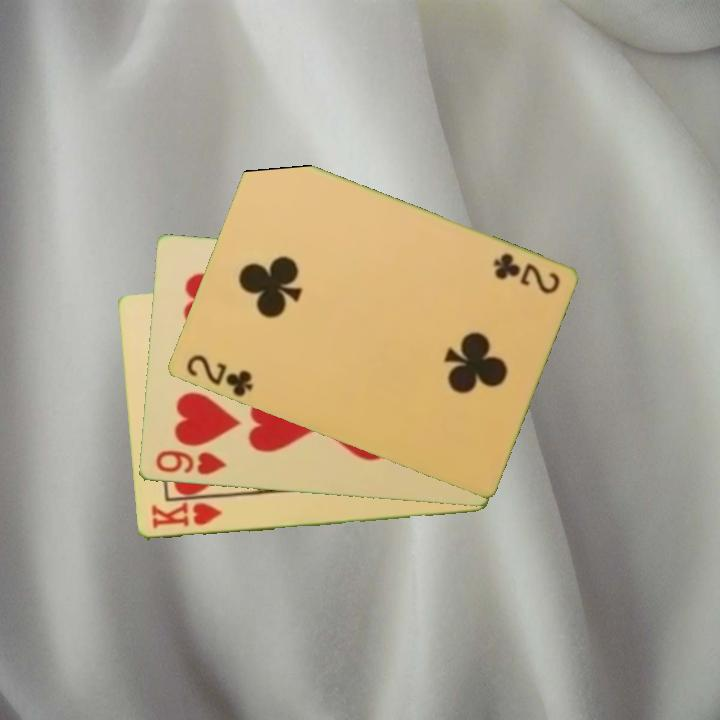2c: (182, 351, 255, 400), (488, 250, 563, 297)
9h: (152, 447, 229, 478)
Kh: (147, 499, 224, 532)
